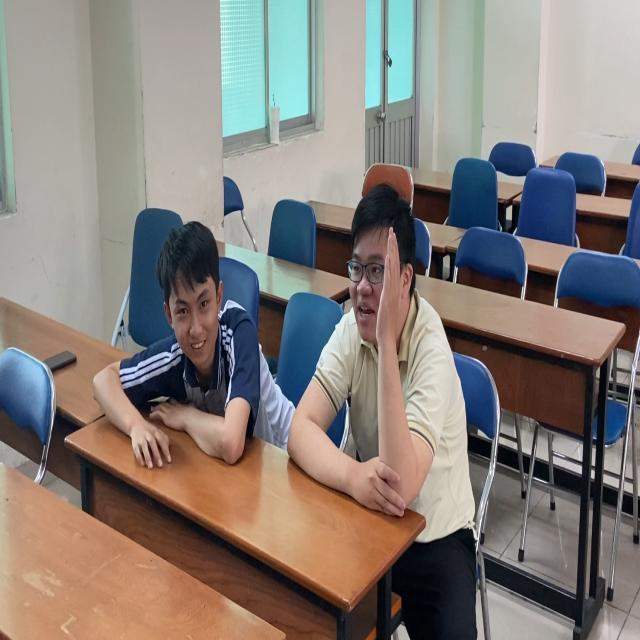raise_hand: (292, 179, 468, 546)
